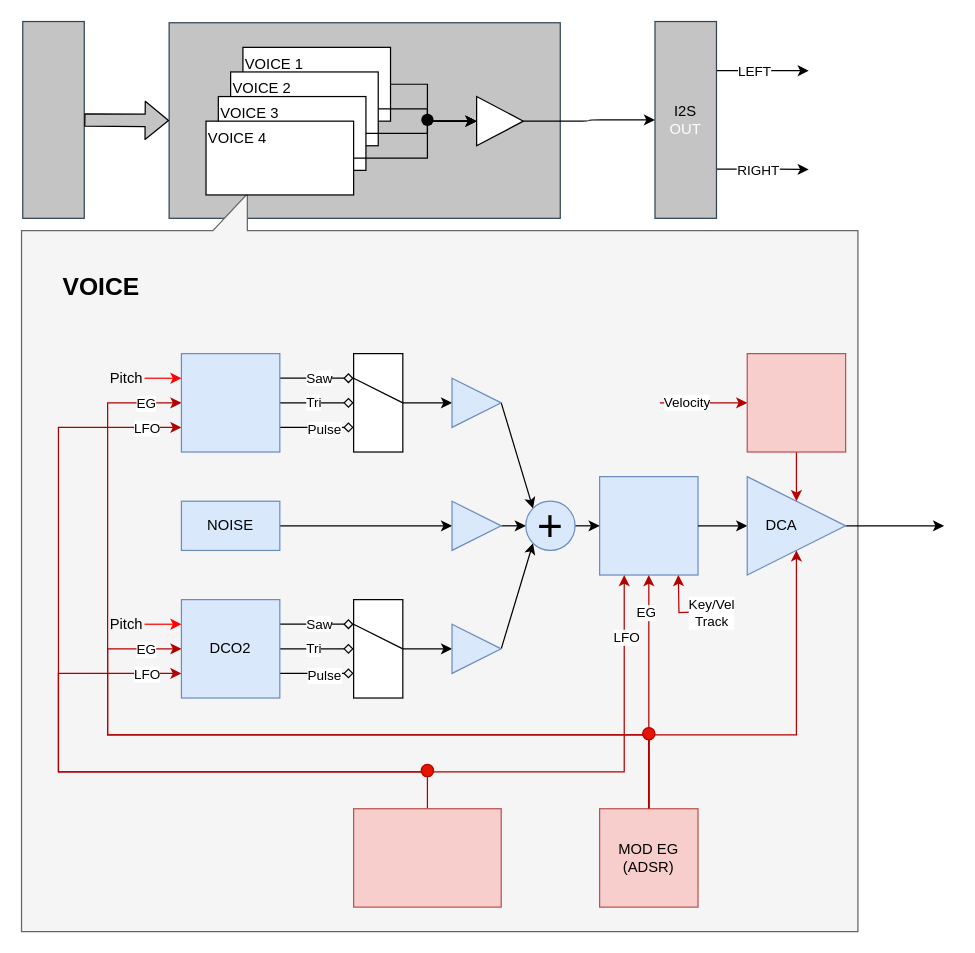
Image size: 975x953. Some labels were removed from this diagram. The centre of each missing label's shape, as x and y in pixels:
"AMP EG (ADSR)" goes at point 796,402.
"DCF" goes at point 648,525.
"DCO1" goes at point 230,402.
"LFO (Tri,Saw, RevSaw, Square, S&H)" goes at point 426,857.
"VOICE ASSIGN" goes at point 53,119.
